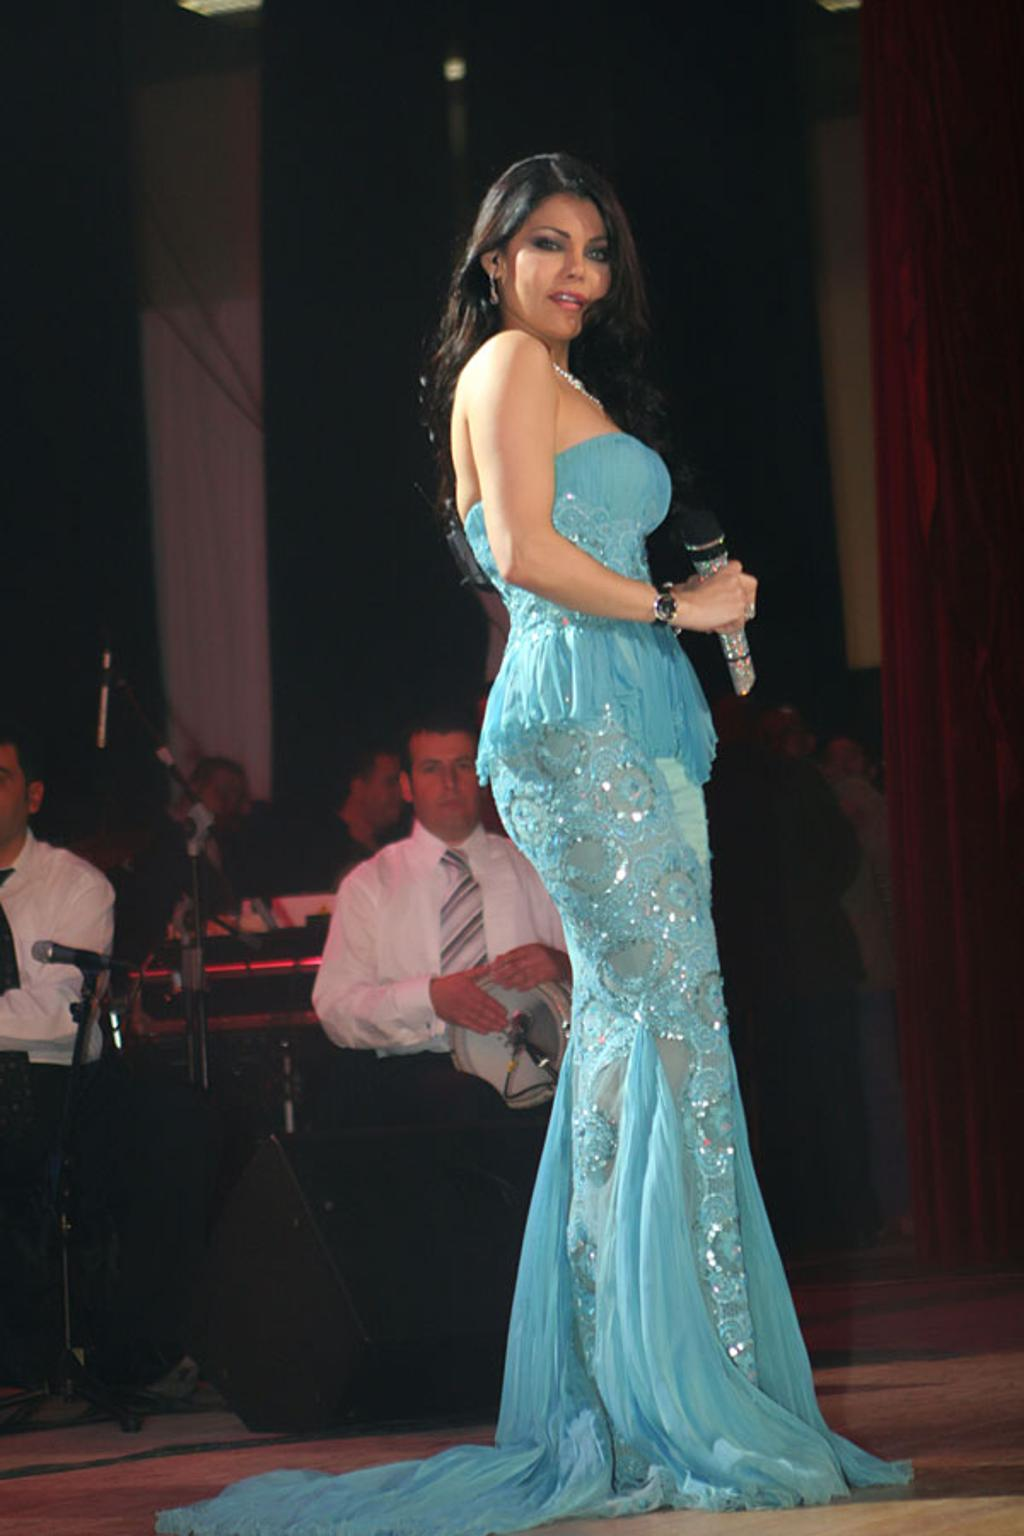face: (503, 201, 613, 337), (409, 739, 486, 830), (362, 762, 404, 826), (0, 757, 28, 850), (200, 773, 246, 826), (823, 740, 864, 800)
